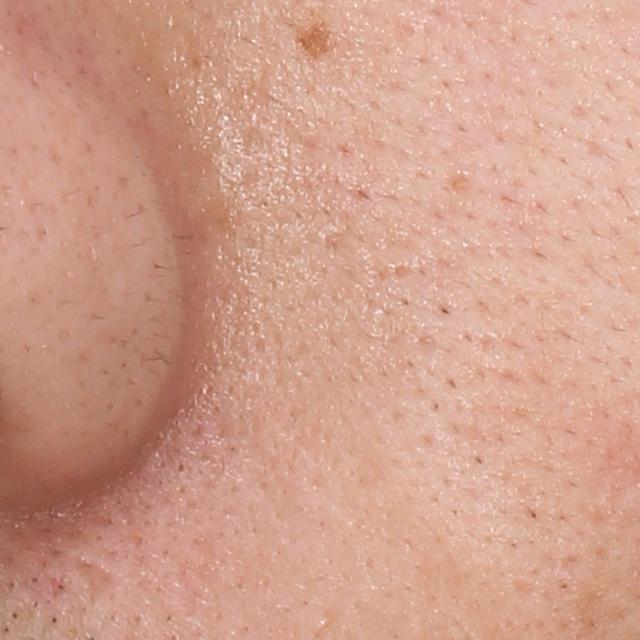atrophic_scar: (67, 551, 133, 608)
comedo: (316, 615, 330, 629)
